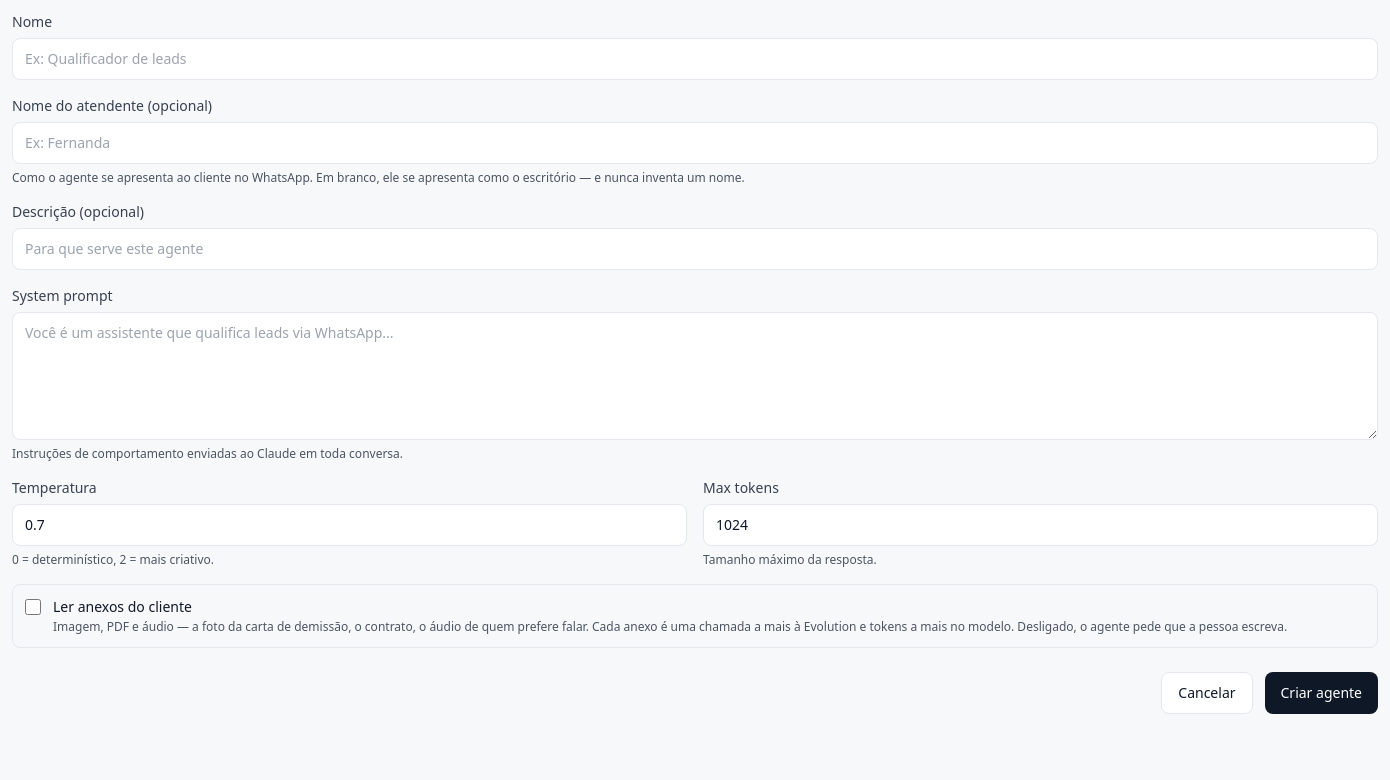
Test: AgentForm › bloqueia temperatura vazia em vez de enviar 0 silenciosamente
Step 1. Type "Agente" into the field labelled "Nome" → (695, 59), box [12,38,1378,80]
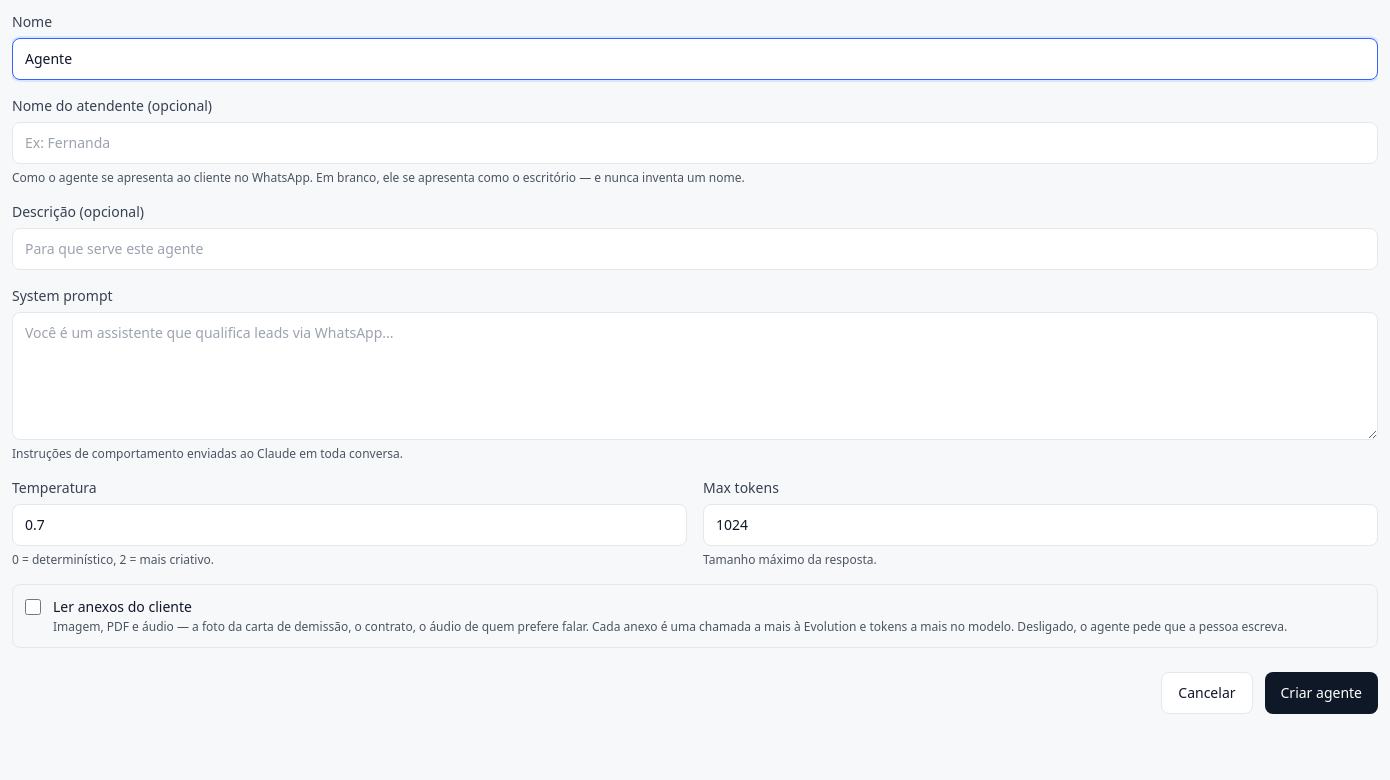
Step 2. Type "Instruções" into the text box labelled "System prompt" → (695, 376), box [12,312,1378,440]
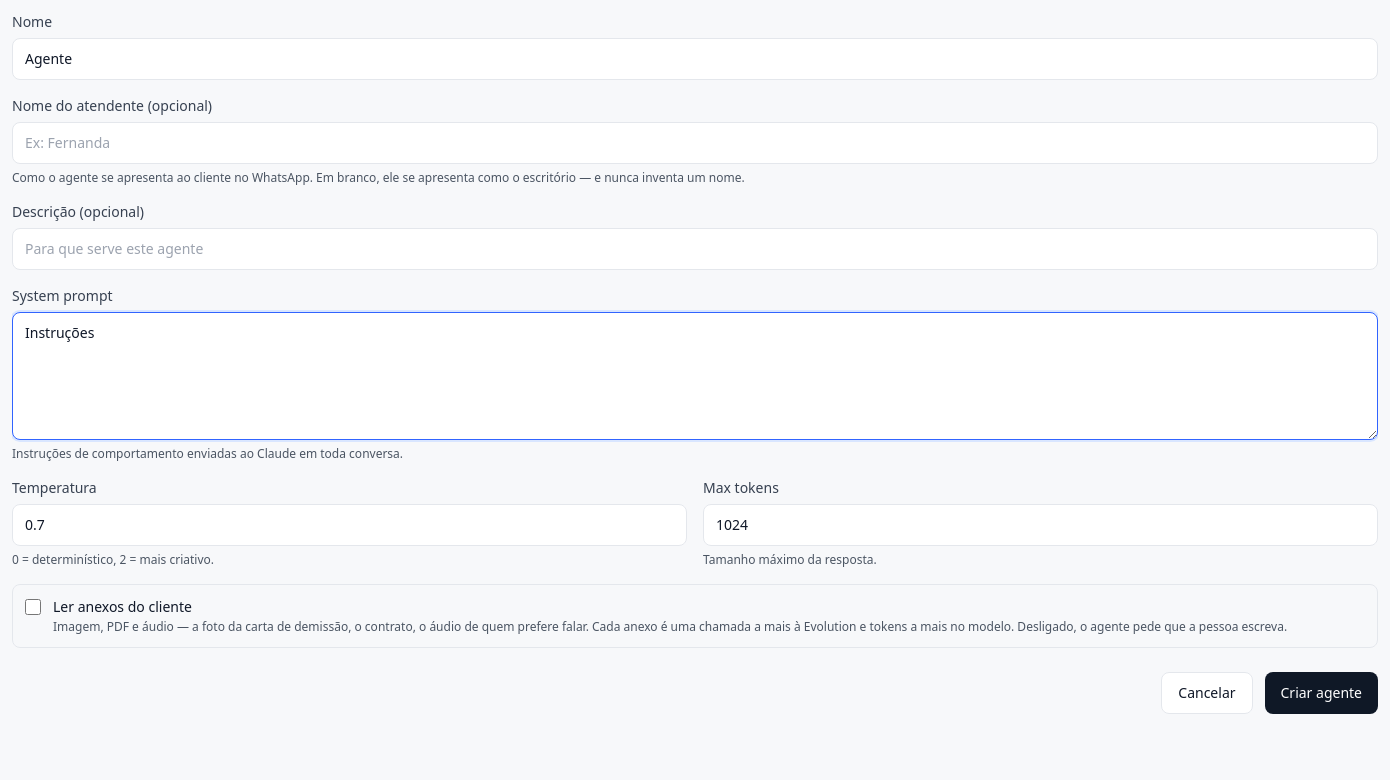
Step 3. Clear the number field labelled "Temperatura" → (350, 525), box [12,504,687,546]
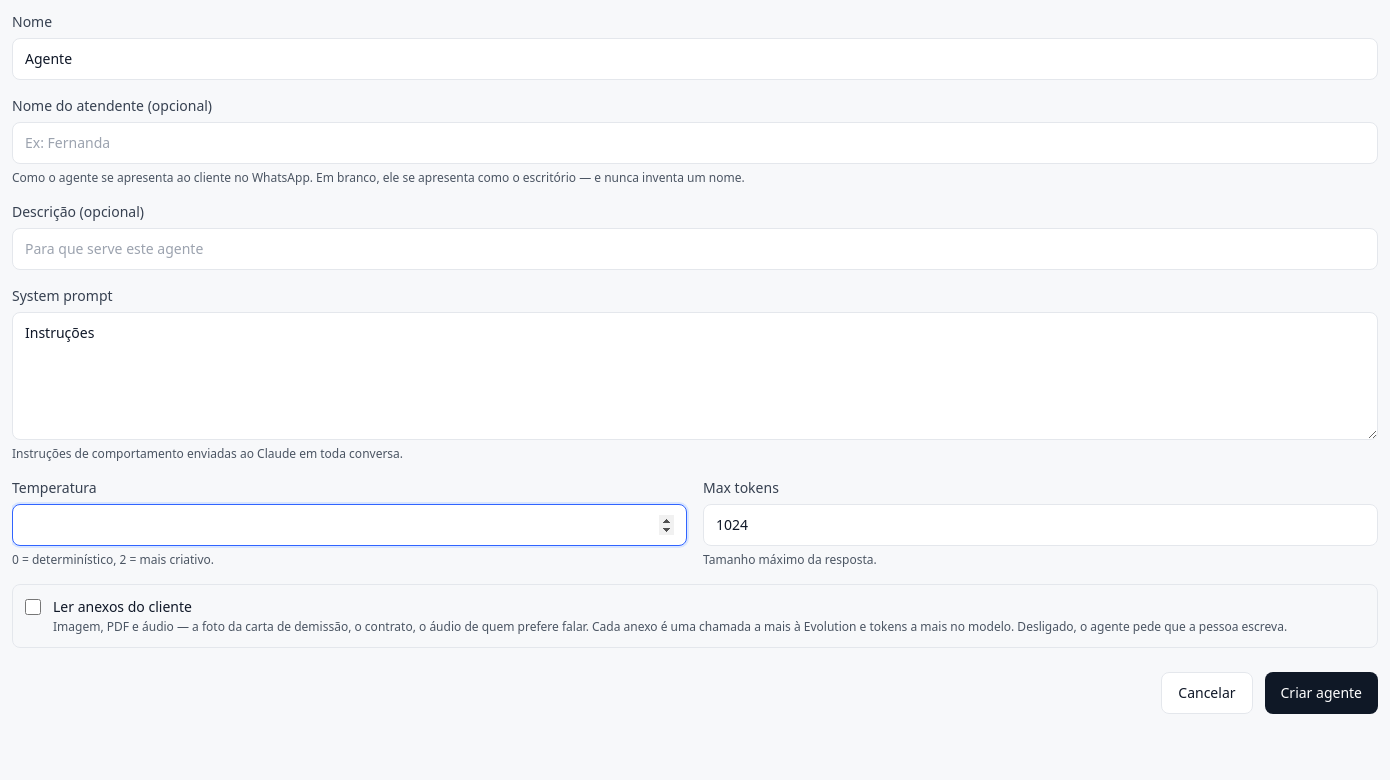
Step 4. Click the button "Criar agente" → (1321, 693), box [1264,672,1378,714]
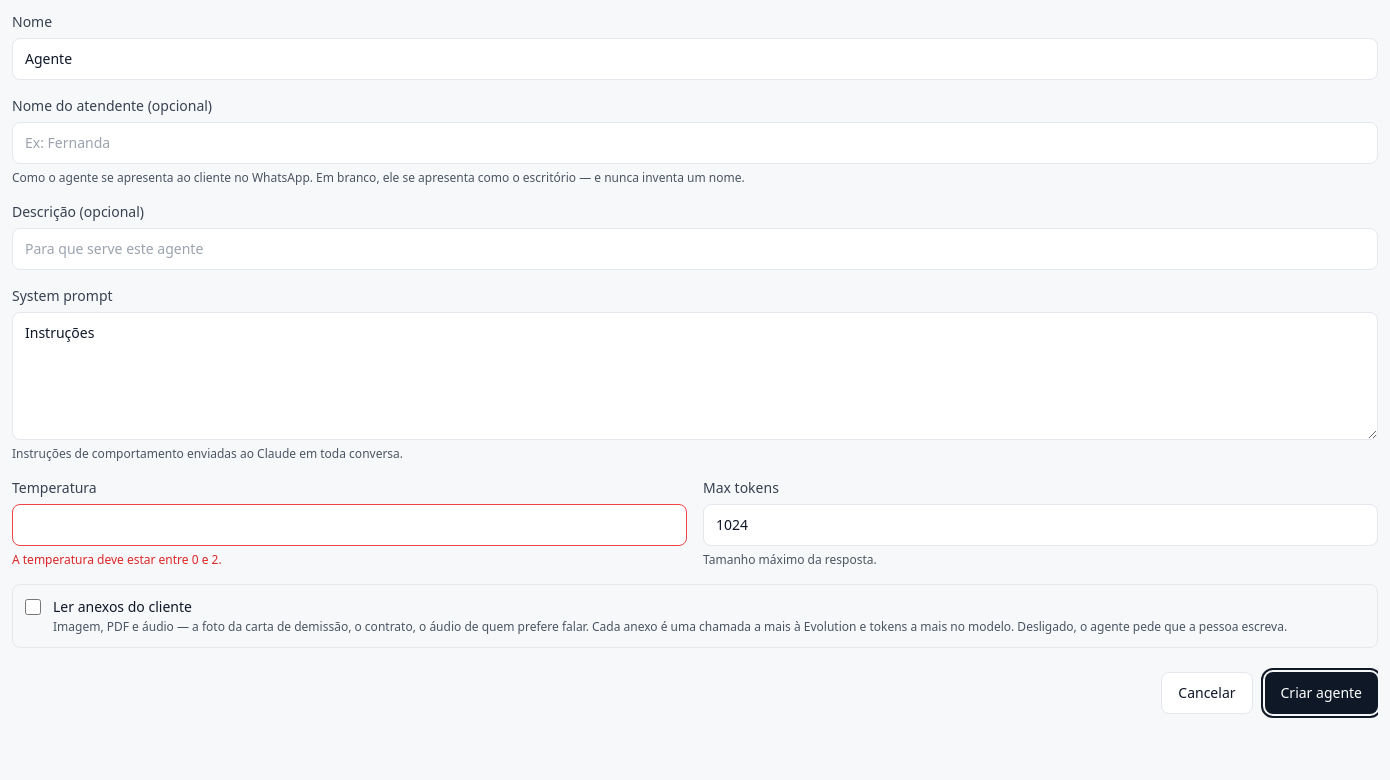
expect the text "A temperatura deve estar entre 0 e 2." is shown: met, box [12,551,222,568]
